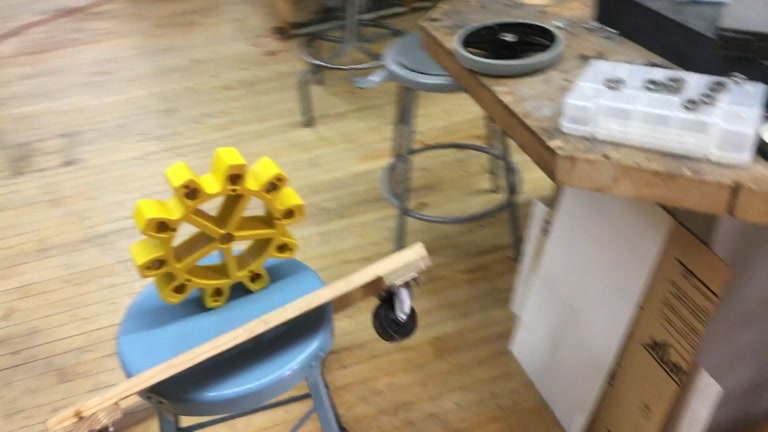gear: (131, 145, 304, 311)
